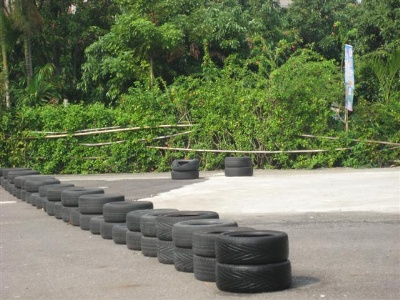tire: (215, 229, 289, 265), (215, 261, 294, 294), (159, 210, 221, 239), (173, 220, 236, 247), (103, 200, 154, 223), (79, 194, 125, 212), (24, 179, 61, 192), (6, 170, 39, 183), (224, 165, 253, 177), (170, 169, 200, 180), (224, 155, 252, 166), (172, 158, 199, 169)
